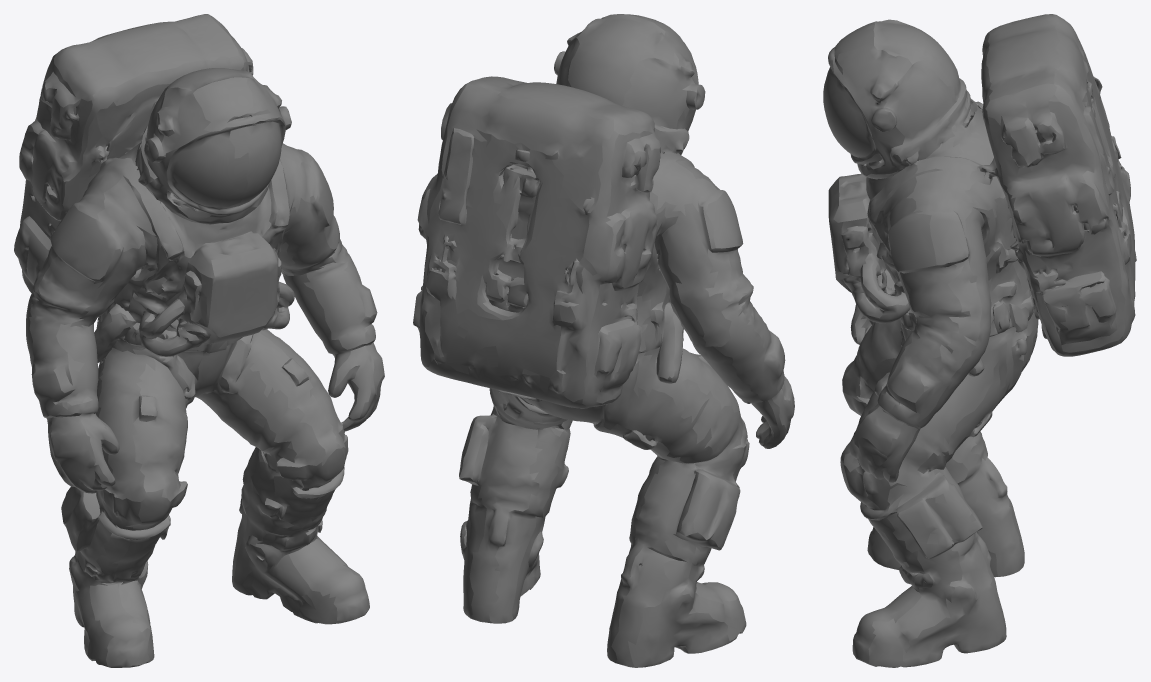
File: completion_astronaut_0.glb
3 renders of one model, left to right at view 1: azimuth 30°, elevation 25°; view 2: azimuth 150°, elevation 25°; view 3: azimuth 270°, elevation 25°, orthographic. The views are drawn at different scales.
Parts seen in each view (by area): view 1: geometry_0; view 2: geometry_0; view 3: geometry_0.
Boxes of the visible parts, box(x1,y1,x2,y2) form: geometry_0: box(14, 14, 384, 667); geometry_0: box(413, 14, 794, 667); geometry_0: box(823, 14, 1136, 667).
Size of the model in its own units: 0.6233 by 1 by 0.4983.
Materials: 1 (1 with a texture image).
